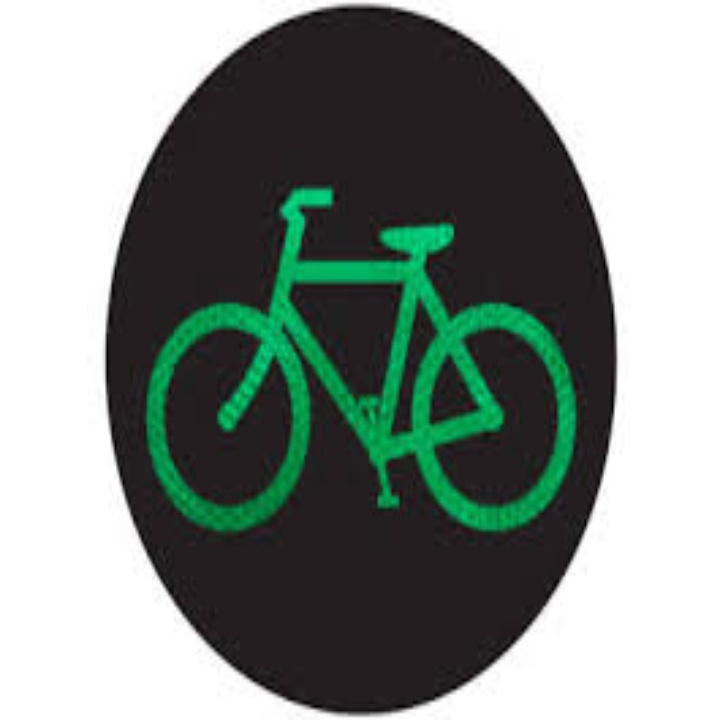bicycle: (143, 181, 581, 533)
